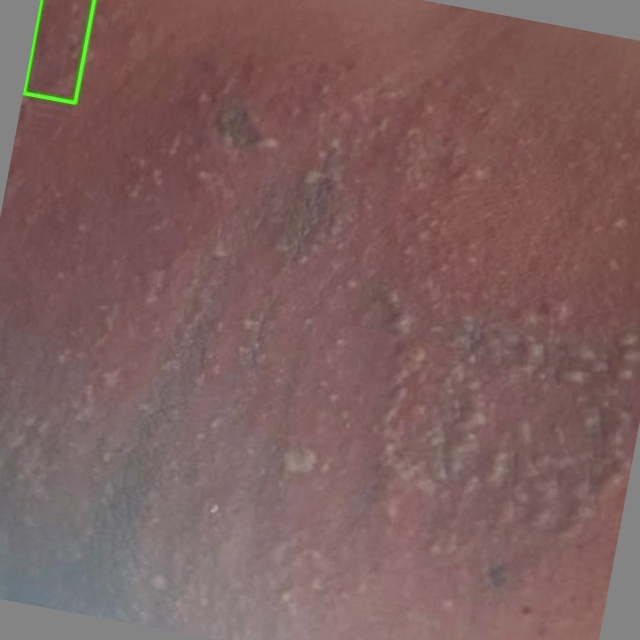Contact Dermatitis: (23, 0, 94, 102)
